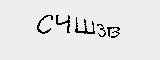Е: (61, 15, 80, 43)
Ж: (5, 17, 35, 42)
М: (83, 18, 108, 40)
О: (124, 15, 144, 40)
С: (35, 13, 59, 41)
Ө: (110, 17, 122, 39)
